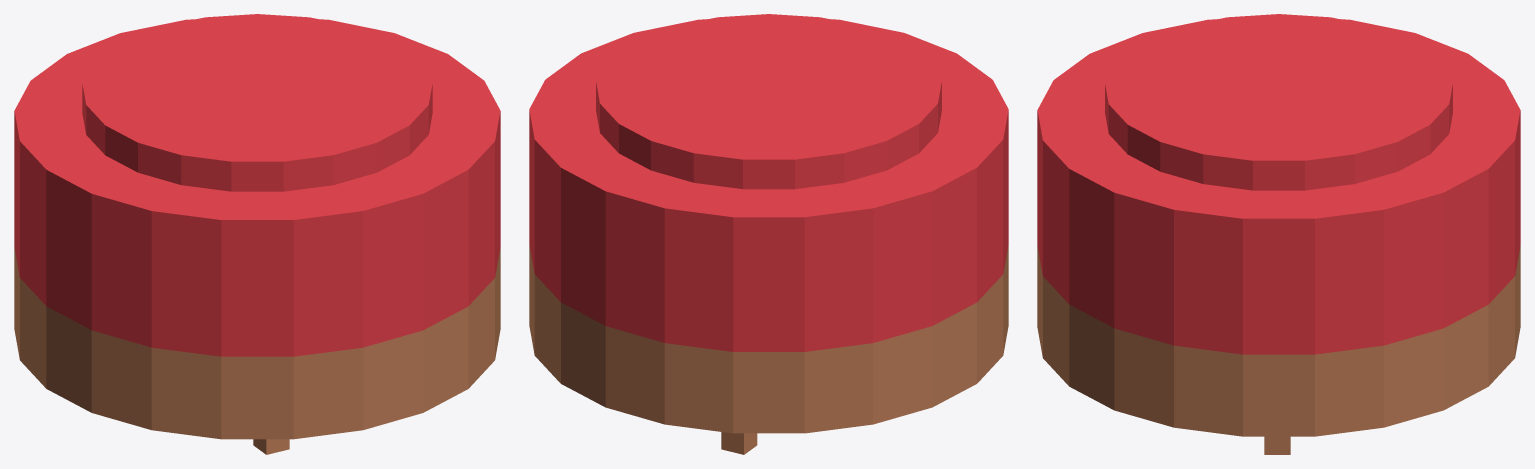
Rendered from puff.fbx.
3 renders of one model, left to right at view 1: azimuth 30°, elevation 25°; view 2: azimuth 150°, elevation 25°; view 3: azimuth 270°, elevation 25°, orthographic.
Parts seen in each view (by area): view 1: Cylinder.005; view 2: Cylinder.005, Cube.186; view 3: Cylinder.005, Cube.188.
Boxes of the visible parts, left/top/right/bottom form: Cylinder.005: left=14, top=14, right=500, bottom=439; Cylinder.005: left=529, top=14, right=1008, bottom=433; Cube.186: left=721, top=432, right=757, bottom=454; Cylinder.005: left=1037, top=14, right=1520, bottom=436; Cube.188: left=1264, top=436, right=1290, bottom=454.
Bounding box in the file's own units: 53.19 × 34.79 × 53.34.
